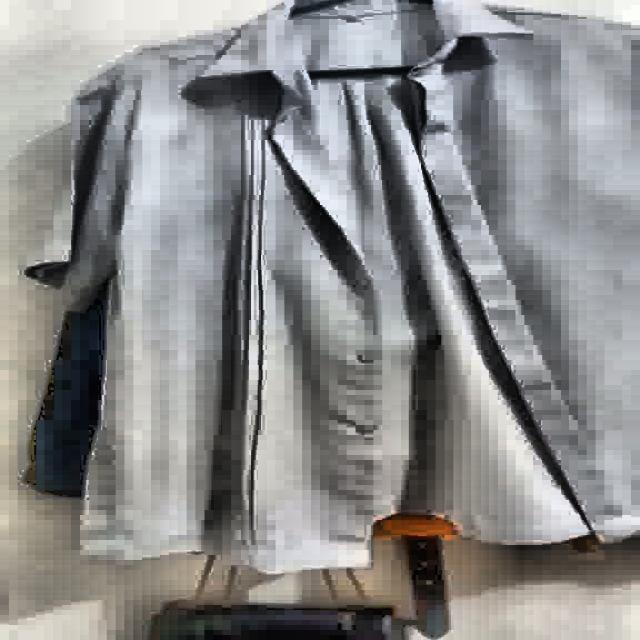clothes: (32, 0, 637, 580)
